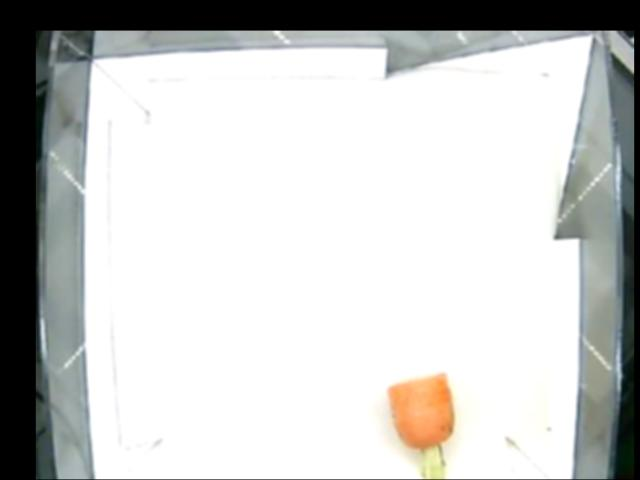Carrot: (387, 370, 462, 479)
